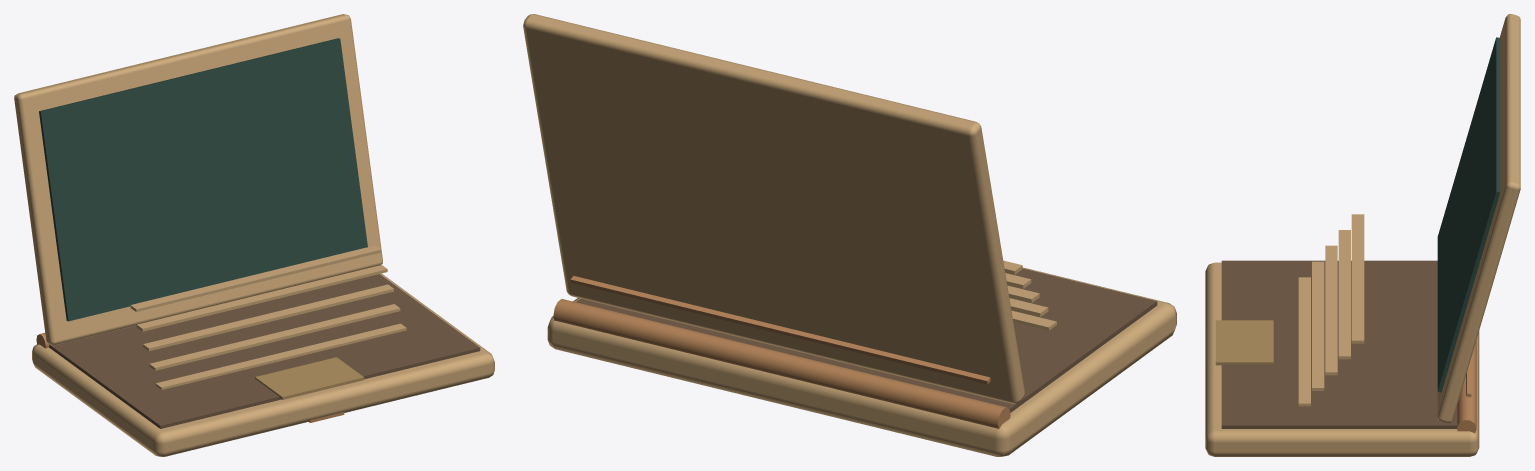
File: laptop.glb
3 views of the same model, side by side, from view 1: azimuth 30°, elevation 25°; view 2: azimuth 150°, elevation 25°; view 3: azimuth 270°, elevation 25° (orthographic). The views are drawn at different scales.
Parts seen in each view (by area): view 1: atelier-warm-laptop; view 2: atelier-warm-laptop; view 3: atelier-warm-laptop.
Part boxes in pixels (x1=…): atelier-warm-laptop: x1=14, y1=14, x2=494, y2=456; atelier-warm-laptop: x1=523, y1=14, x2=1176, y2=456; atelier-warm-laptop: x1=1205, y1=14, x2=1520, y2=456.
Size of the model in its own units: 1.35 by 1 by 1.03.
